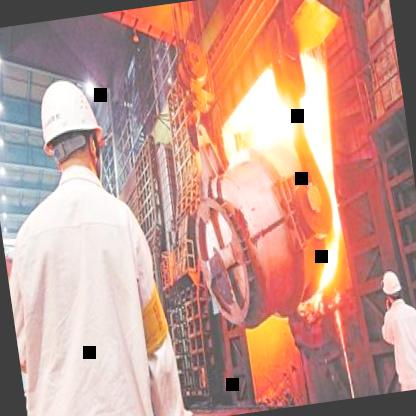helmet: (27, 64, 117, 202), (378, 270, 404, 312)
